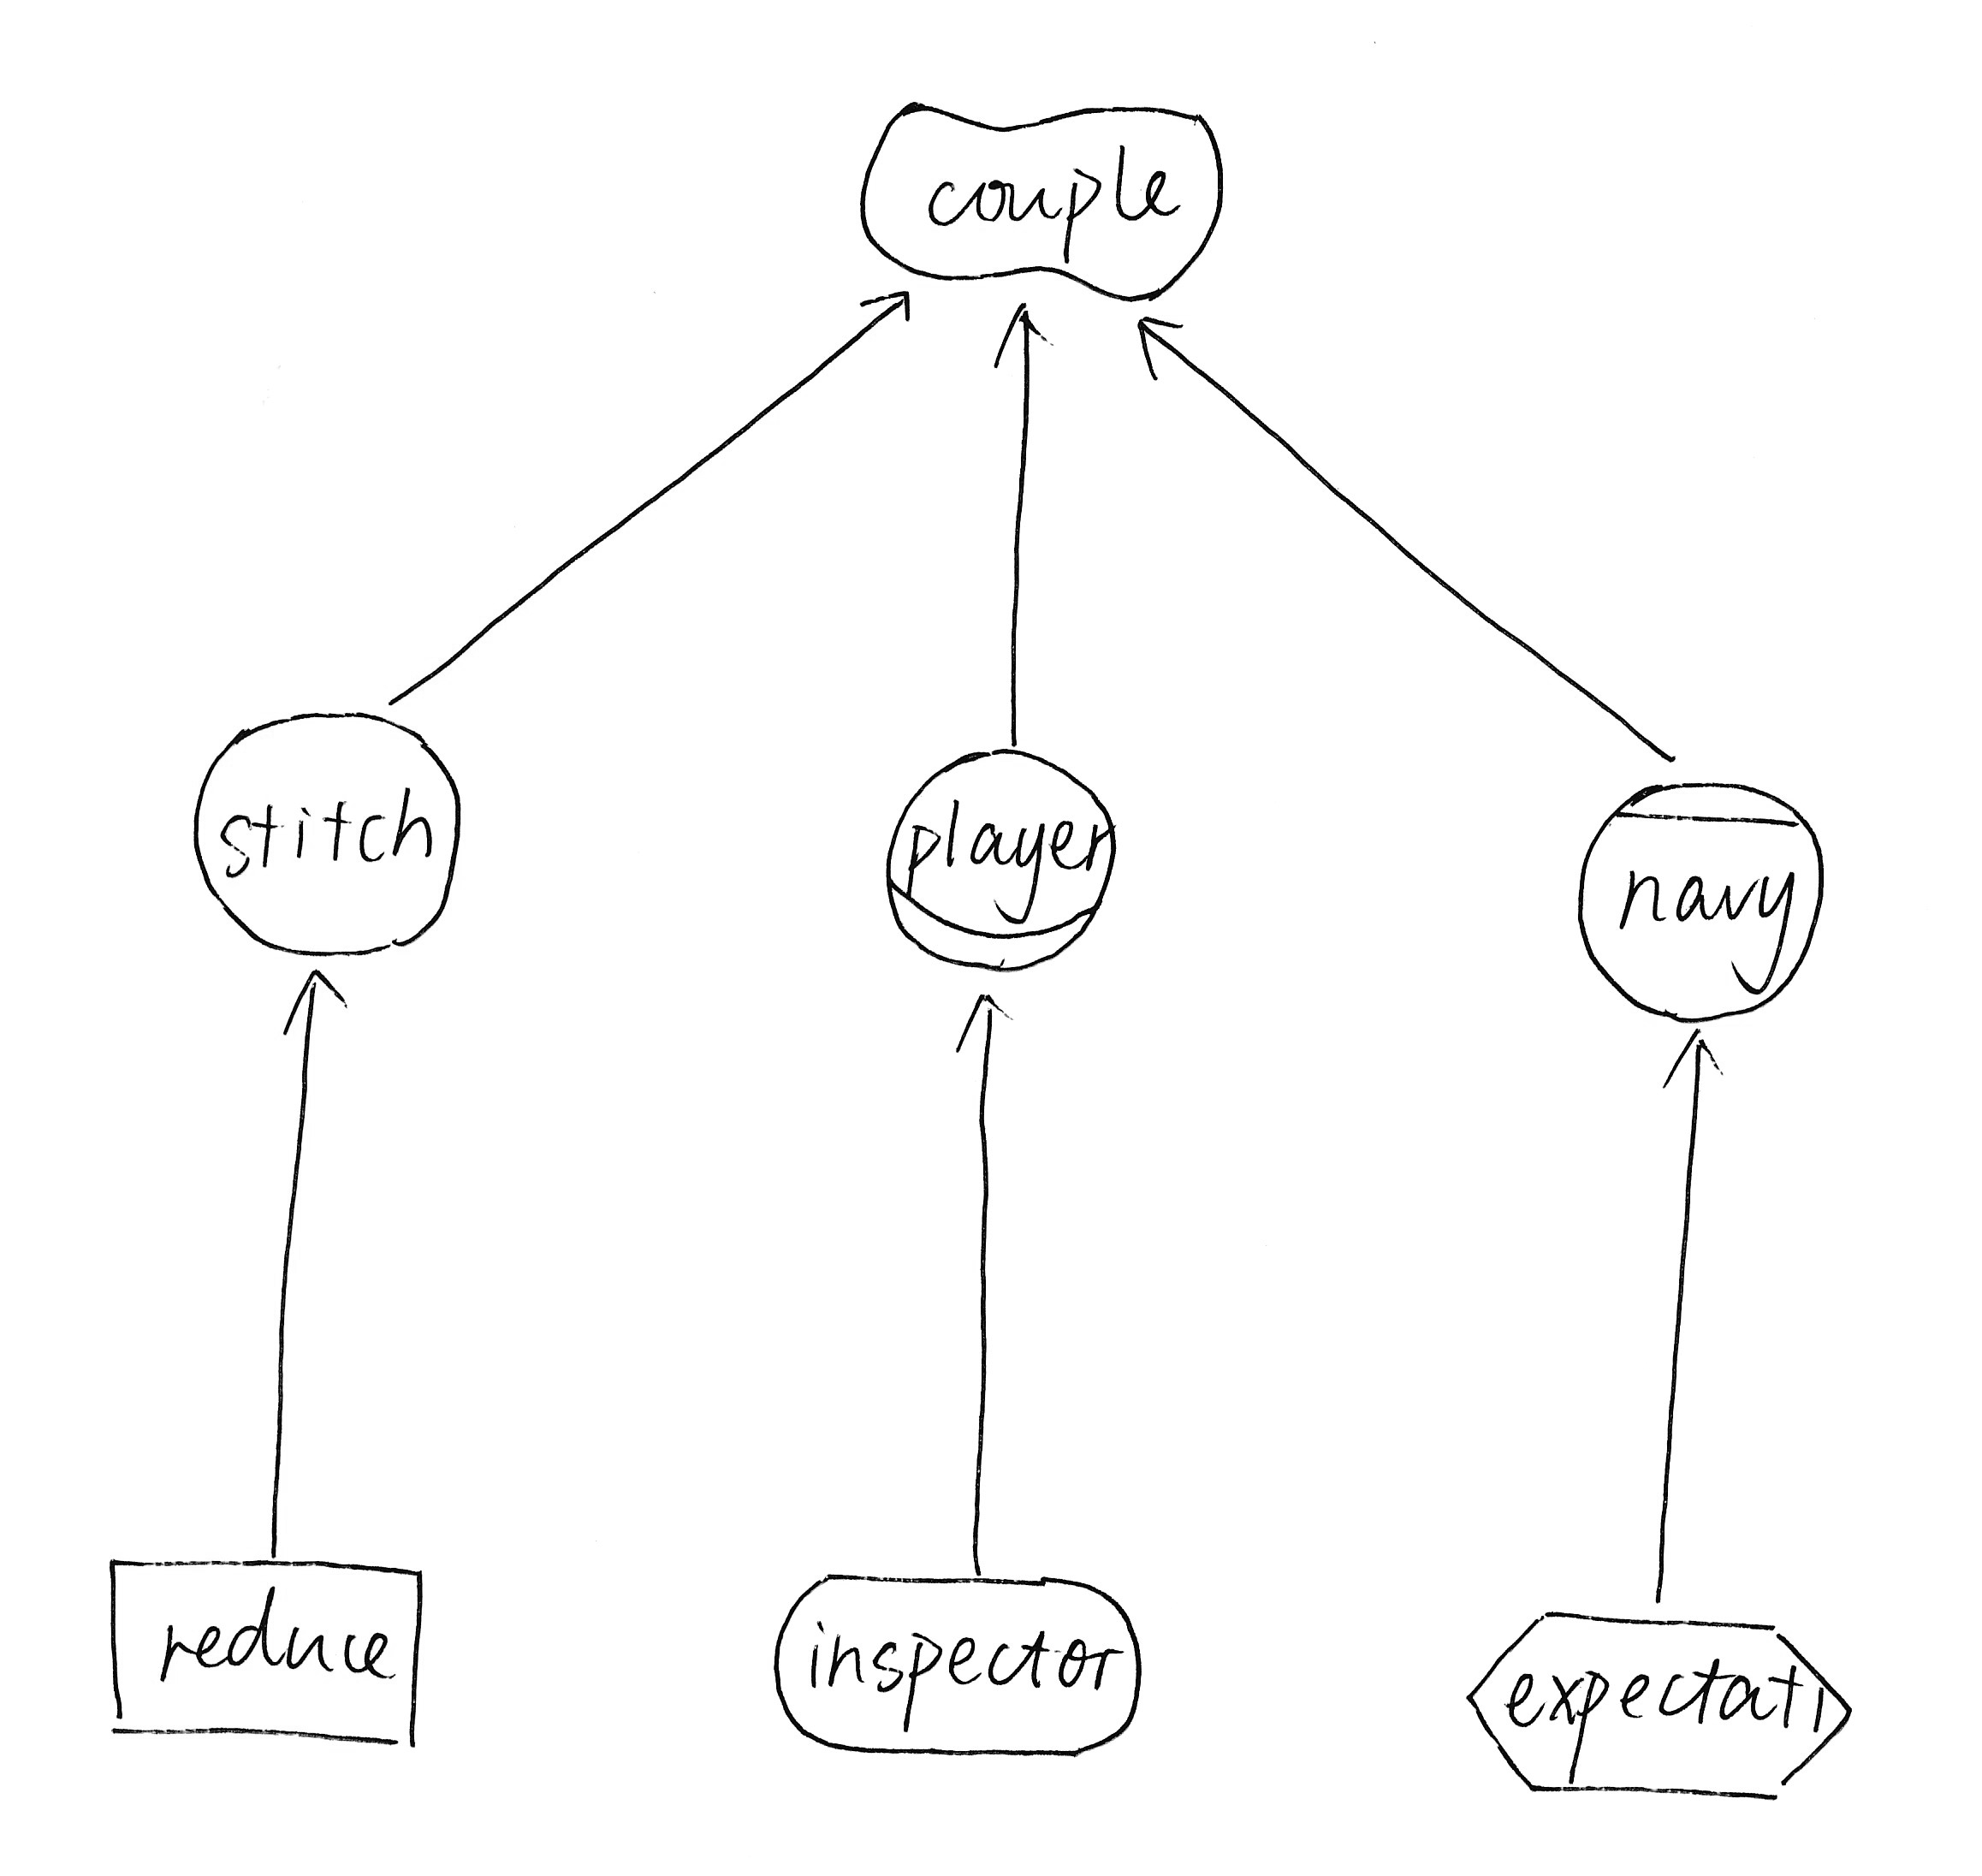actor: (176, 691, 487, 971)
agent: (1561, 762, 1839, 1044)
arrow: (268, 957, 369, 1051), (942, 980, 1033, 1070), (982, 291, 1070, 377), (1650, 1026, 1740, 1111), (1123, 301, 1203, 391), (845, 277, 933, 351)
goal: (756, 1555, 1155, 1775)
quality: (845, 74, 1247, 314)
resource: (86, 1534, 443, 1763)
role: (866, 726, 1136, 991)
task: (1444, 1594, 1876, 1820)
